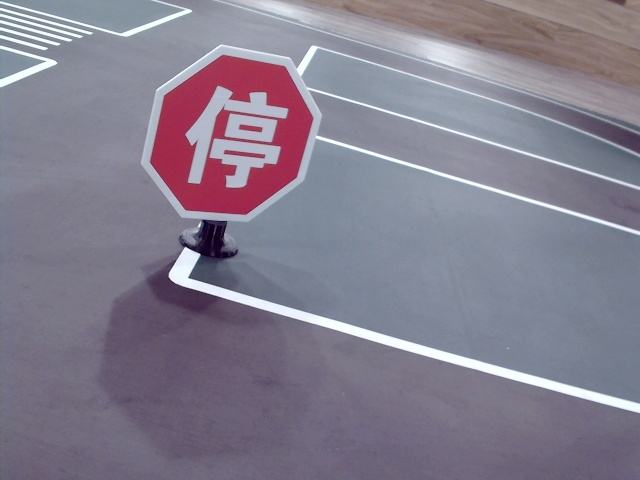stop: (186, 80, 280, 190)
